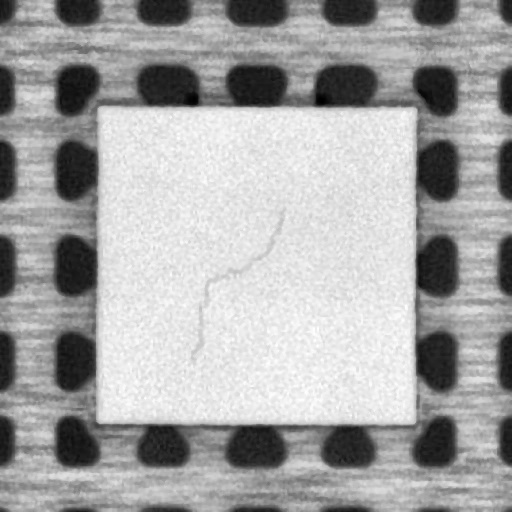DIE_CRACK: (184, 206, 286, 368)
